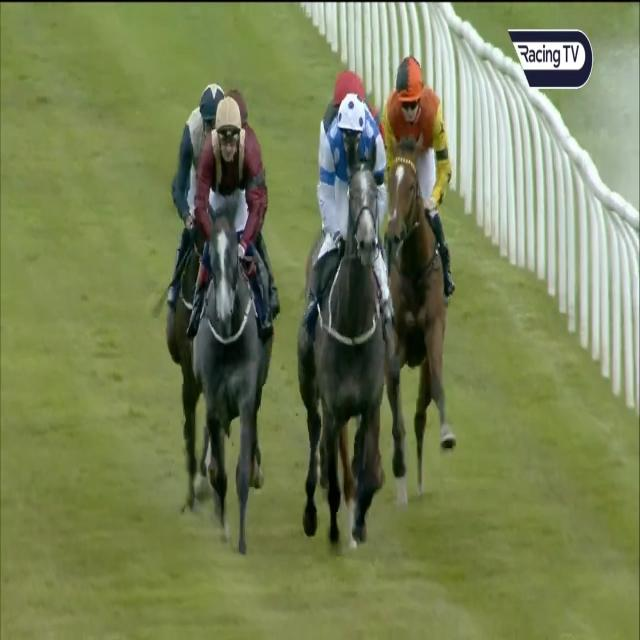horses-racing: (296, 99, 404, 558), (385, 59, 470, 505), (200, 102, 282, 538), (167, 81, 221, 444), (316, 65, 384, 118)
